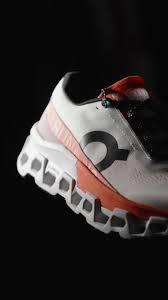OC_logo: (68, 122, 139, 182)
